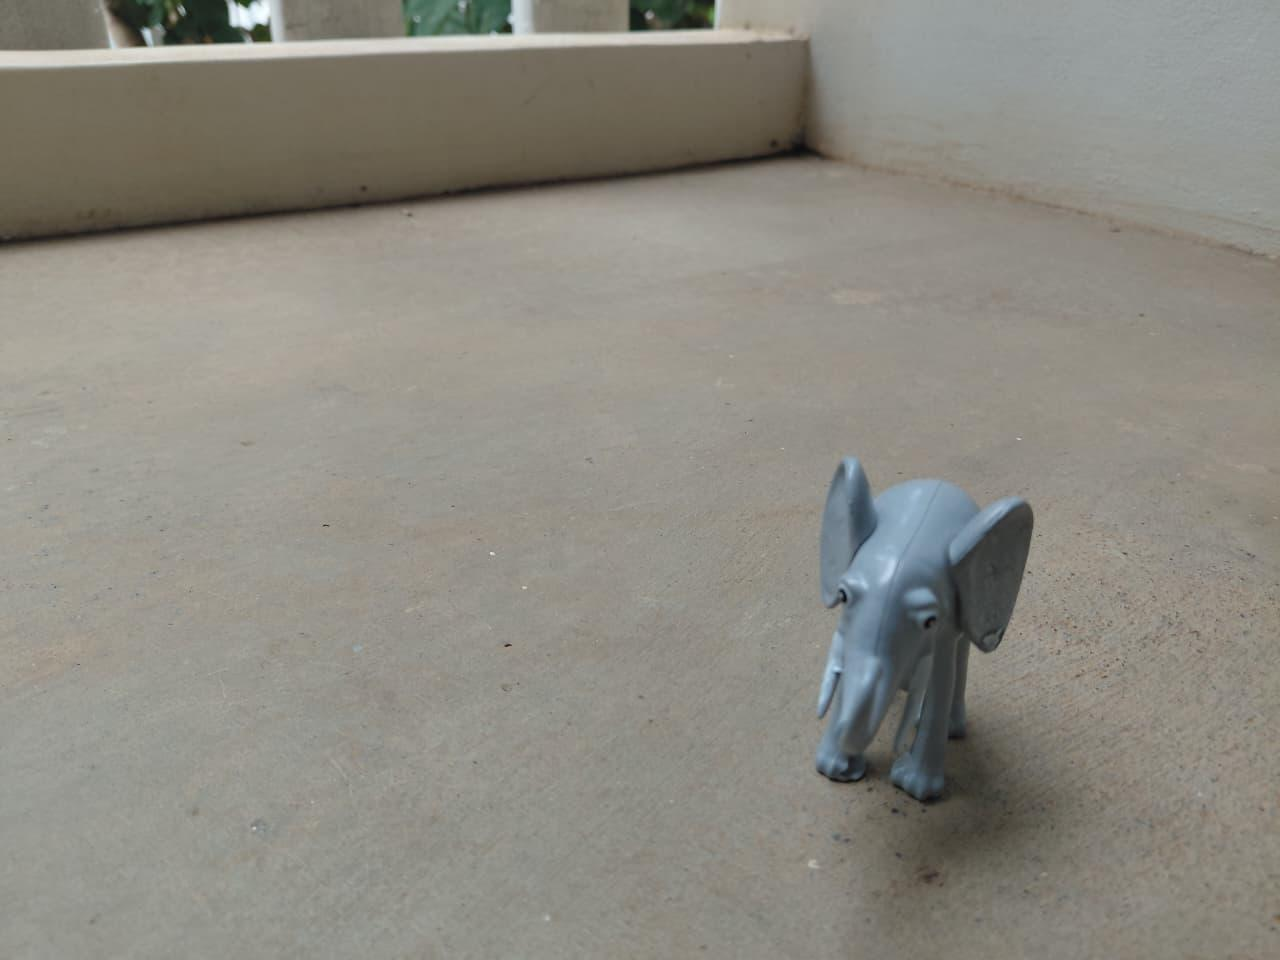elephant: (806, 445, 1040, 807)
